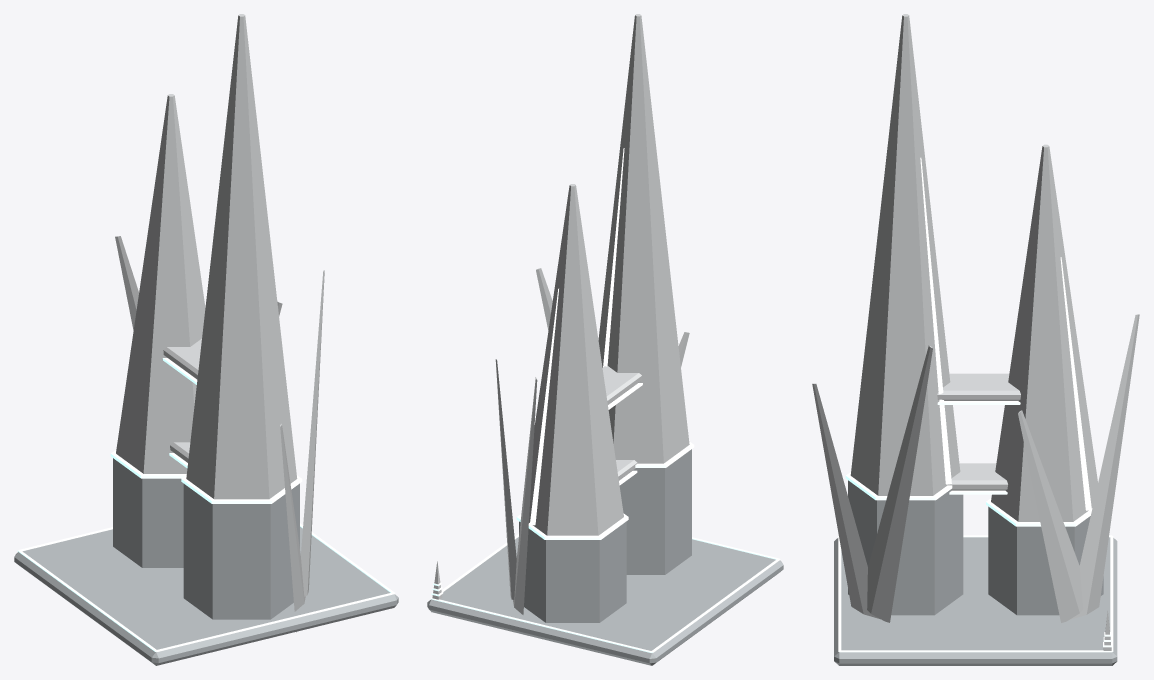
File: zone_high_6_t3.glb
The picture shows the model from 3 angles, left to right: view 1: azimuth 30°, elevation 25°; view 2: azimuth 150°, elevation 25°; view 3: azimuth 270°, elevation 25°; orthographic projection. The views are drawn at different scales.
Parts seen in each view (by area): view 1: zone_high_6_t3, detail; view 2: zone_high_6_t3, detail; view 3: zone_high_6_t3, detail.
Boxes of the visible parts, x1,y1,x2,y2 form: zone_high_6_t3: [14, 14, 398, 665]; detail: [17, 523, 395, 651]; zone_high_6_t3: [427, 14, 783, 665]; detail: [430, 534, 780, 652]; zone_high_6_t3: [812, 14, 1139, 665]; detail: [838, 535, 1113, 652].
Bounding box in the file's own units: 27.5 × 64.5 × 31.79.
